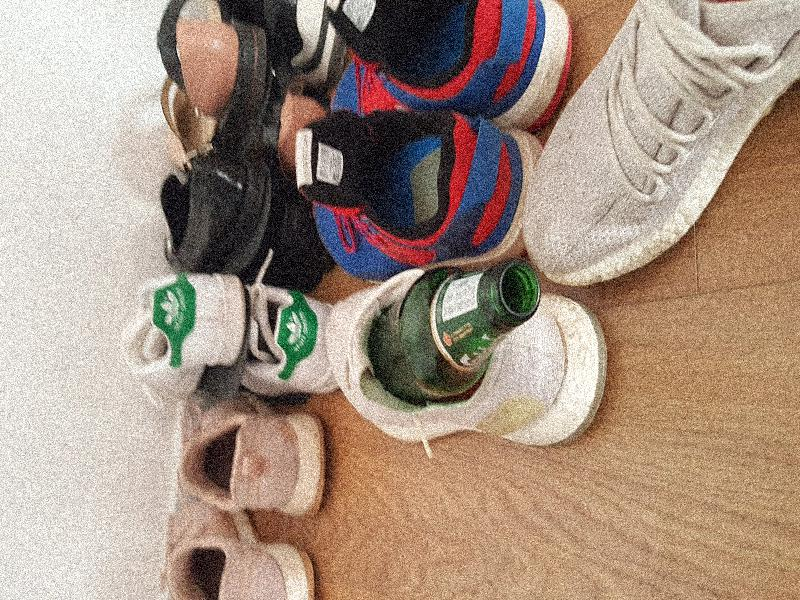Beer: (370, 261, 539, 400)
